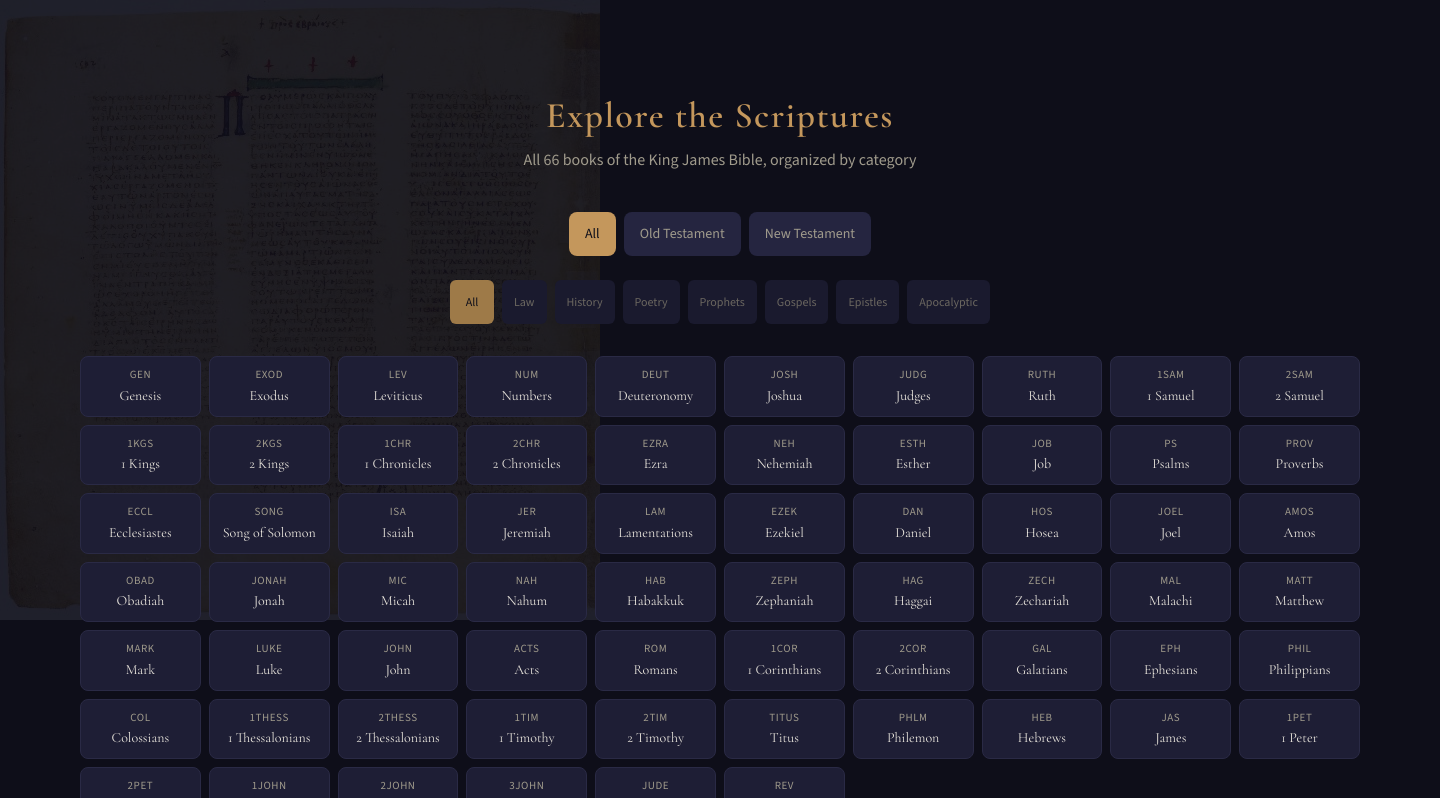
Scenario: BooksGrid › clicking 'Old Testament' filters to OT books only
Click the tab "Old Testament": [682, 234] box top-left (624, 212), bottom-right (741, 256)
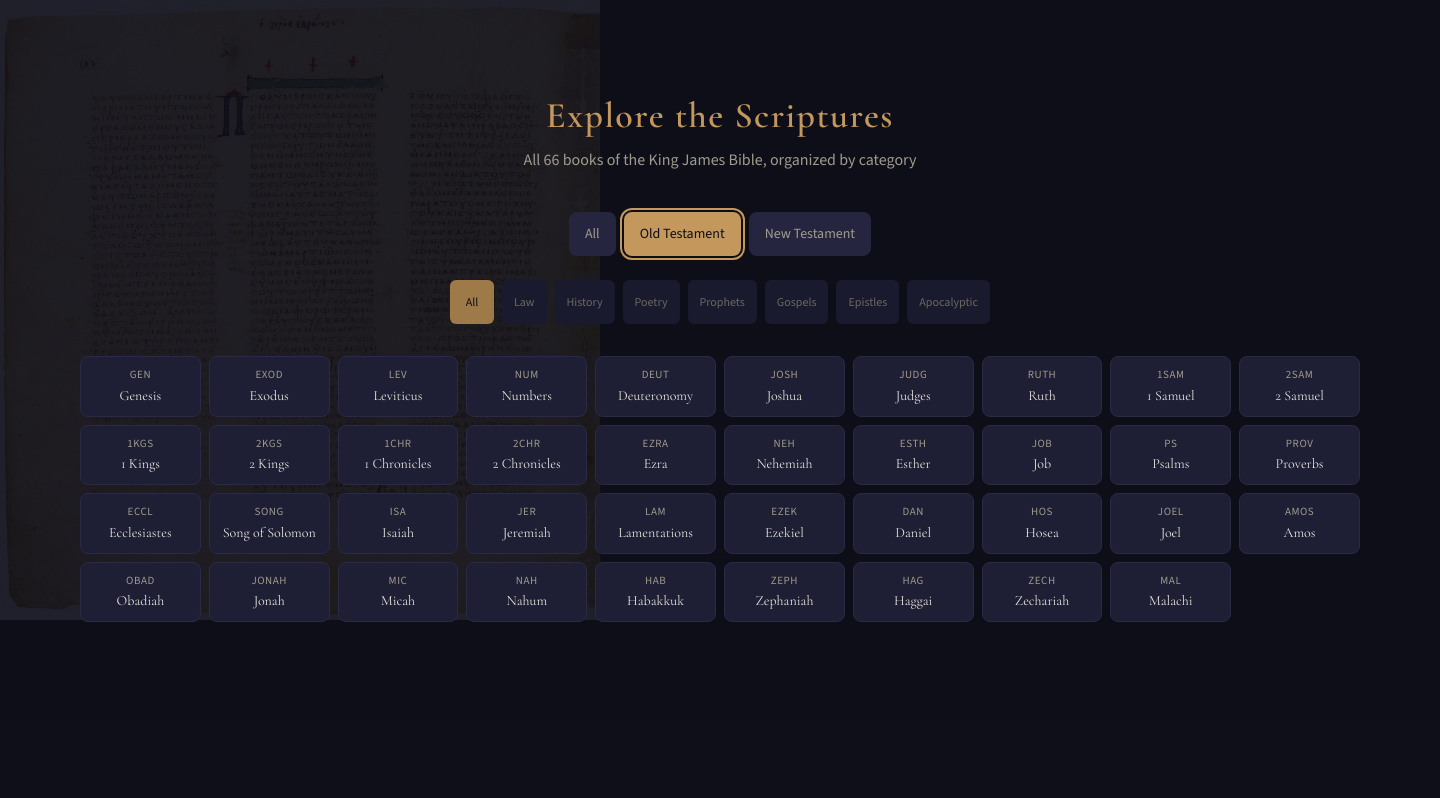
Expected: the text "Genesis" is shown, top-left (119, 386), bottom-right (161, 404)
Expected: the link "Matthew" is gone
